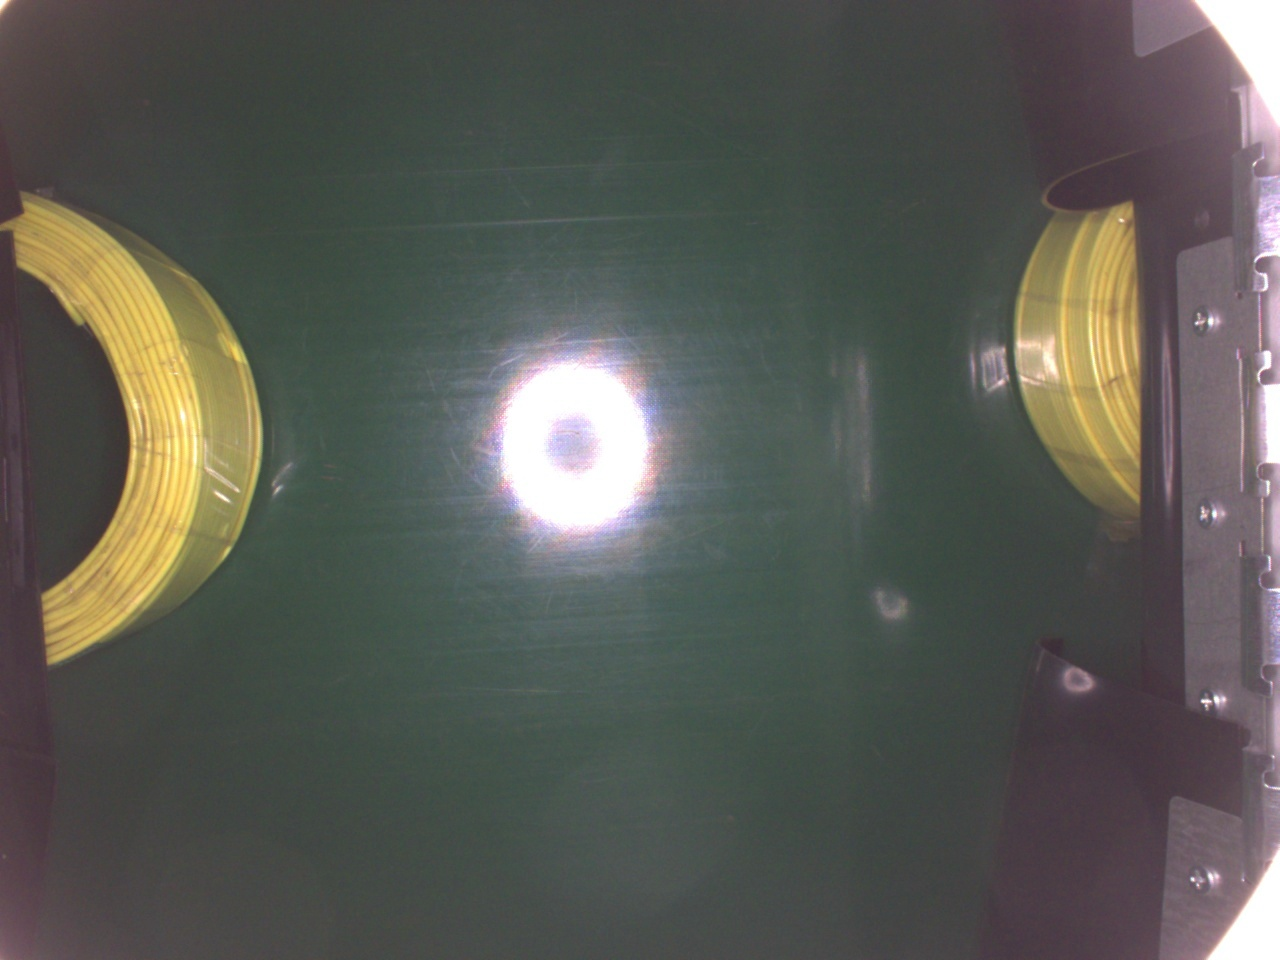yellow: (9, 186, 263, 675), (1014, 197, 1144, 522)
